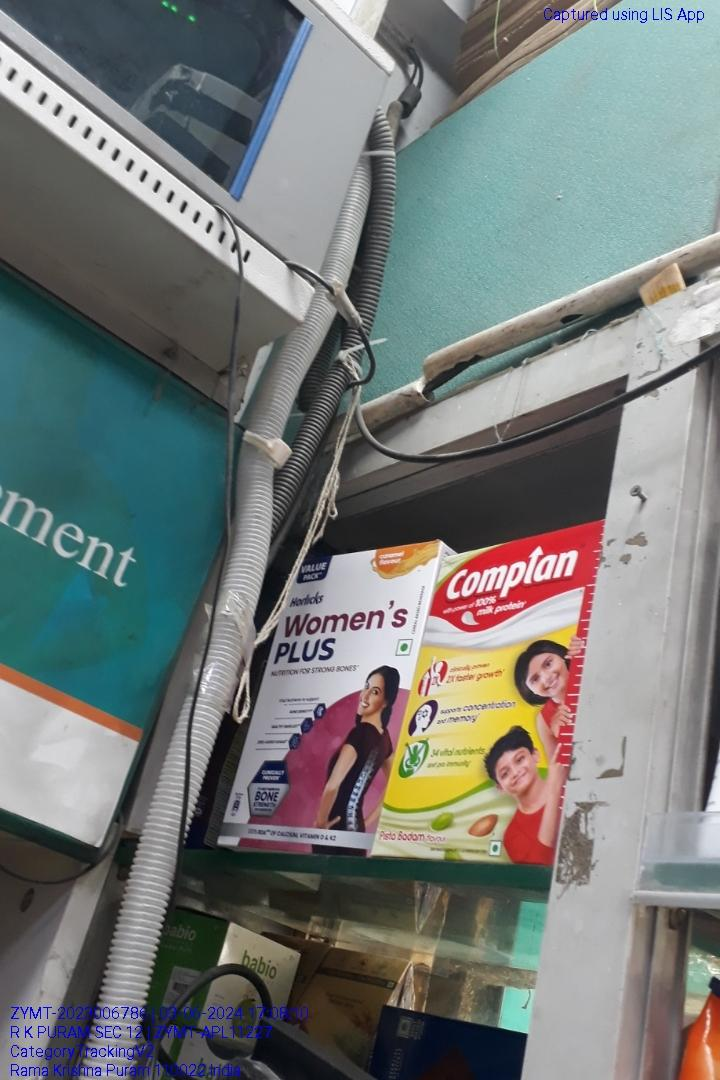COMPLAN_PISTA_BADAM_500_GMS_PACK: (405, 522, 568, 861)
